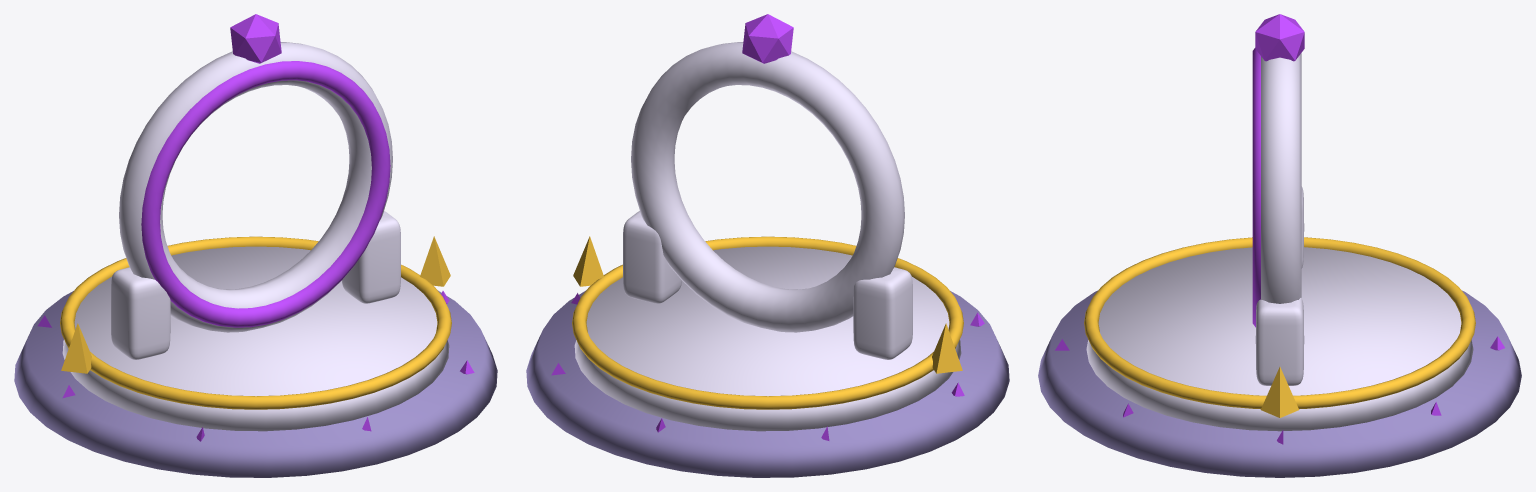
The model's file is P_RebirthShrine.fbx.
3 views of the same model, side by side, from view 1: azimuth 30°, elevation 25°; view 2: azimuth 150°, elevation 25°; view 3: azimuth 270°, elevation 25° (orthographic).
Parts seen in each view (by area): view 1: P_RebirthShrine__Stone, P_RebirthShrine__StoneDark, P_RebirthShrine__Glow, P_RebirthShrine__Gold; view 2: P_RebirthShrine__Stone, P_RebirthShrine__StoneDark, P_RebirthShrine__Gold, P_RebirthShrine__Glow; view 3: P_RebirthShrine__Stone, P_RebirthShrine__StoneDark, P_RebirthShrine__Gold, P_RebirthShrine__Glow.
Boxes of the visible parts, x1,y1,x2,y2 form: P_RebirthShrine__Stone: [62, 42, 449, 431]; P_RebirthShrine__StoneDark: [14, 290, 497, 477]; P_RebirthShrine__Glow: [37, 14, 474, 441]; P_RebirthShrine__Gold: [60, 236, 451, 409]; P_RebirthShrine__Stone: [574, 42, 961, 431]; P_RebirthShrine__StoneDark: [526, 290, 1009, 477]; P_RebirthShrine__Gold: [572, 236, 963, 409]; P_RebirthShrine__Glow: [551, 14, 984, 440]; P_RebirthShrine__Stone: [1086, 53, 1473, 431]; P_RebirthShrine__StoneDark: [1038, 290, 1521, 477]; P_RebirthShrine__Gold: [1084, 237, 1475, 417]; P_RebirthShrine__Glow: [1055, 14, 1504, 444].
Size of the model in its own units: 20 by 16.5 by 20.
